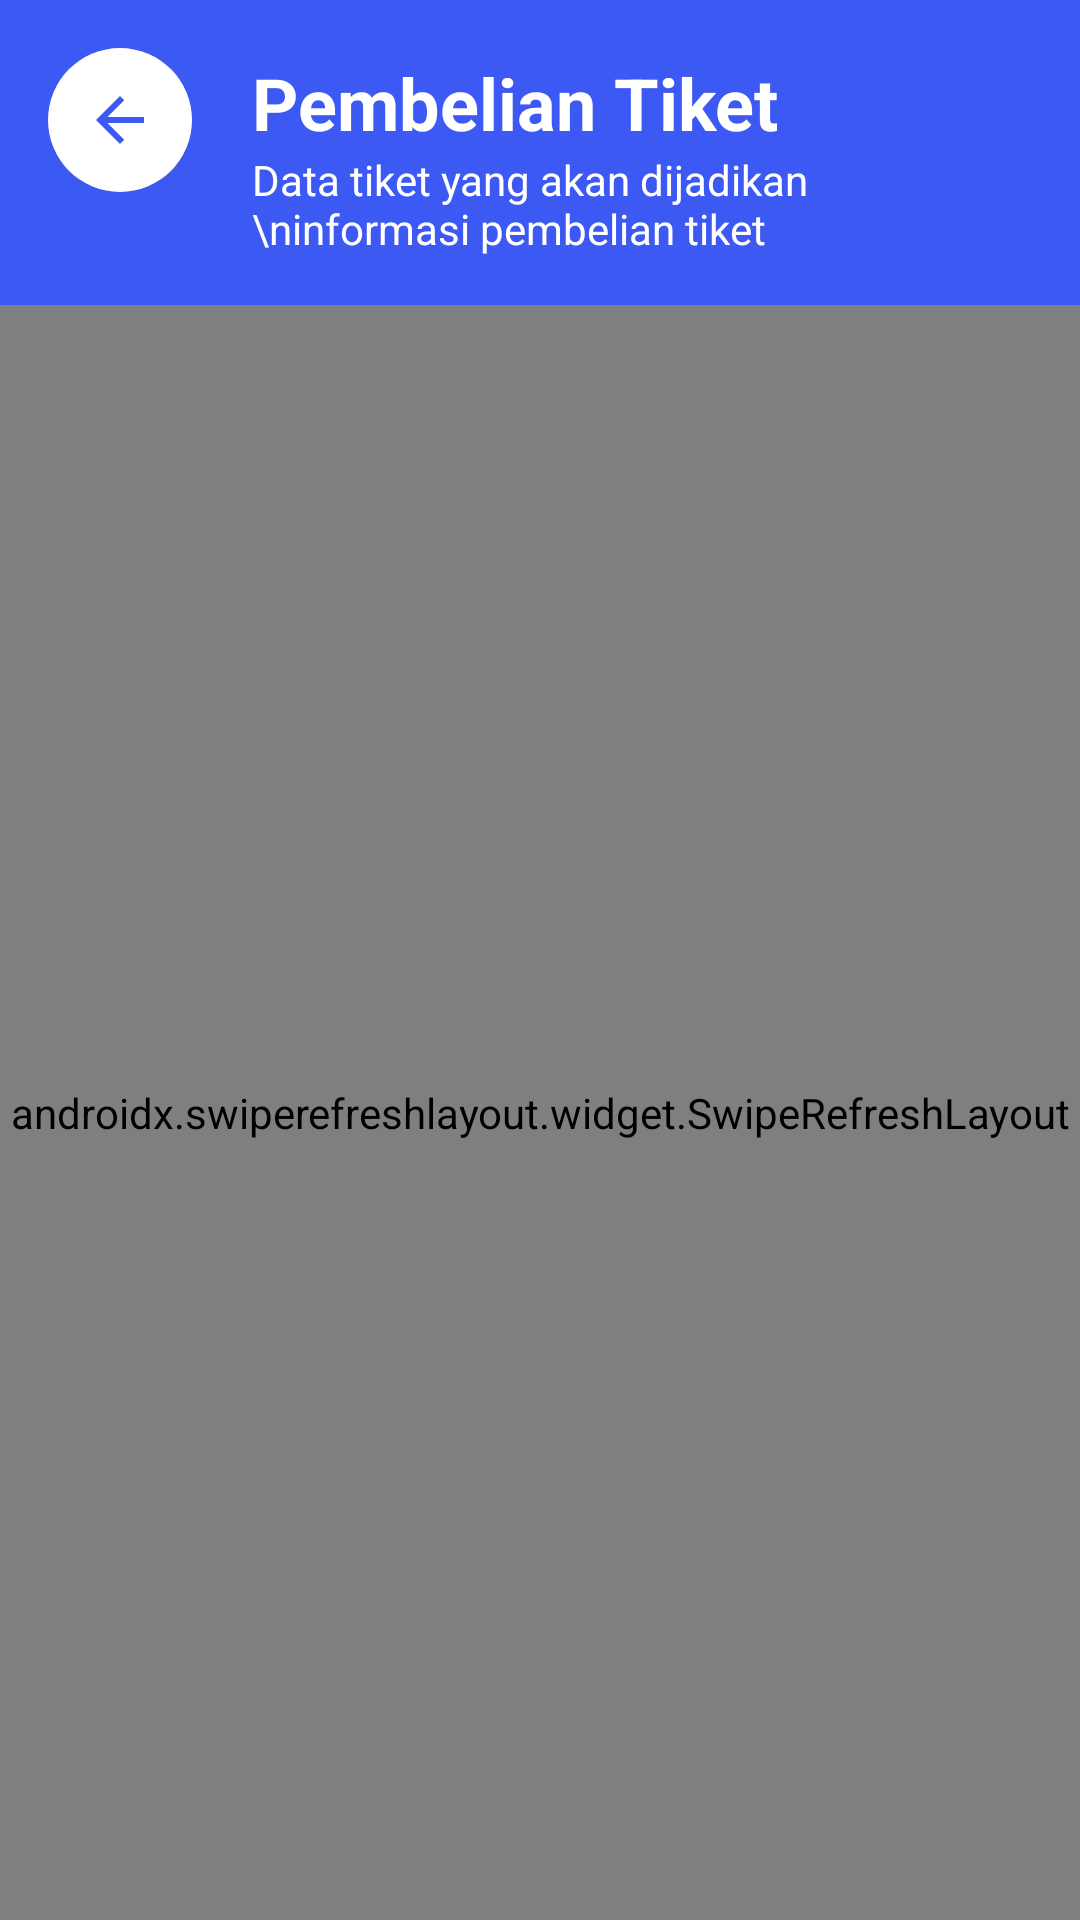

Point at icon controls on the screen. Image size 1080 x 1920, points as (x,y).
back arrow: (120,120)
